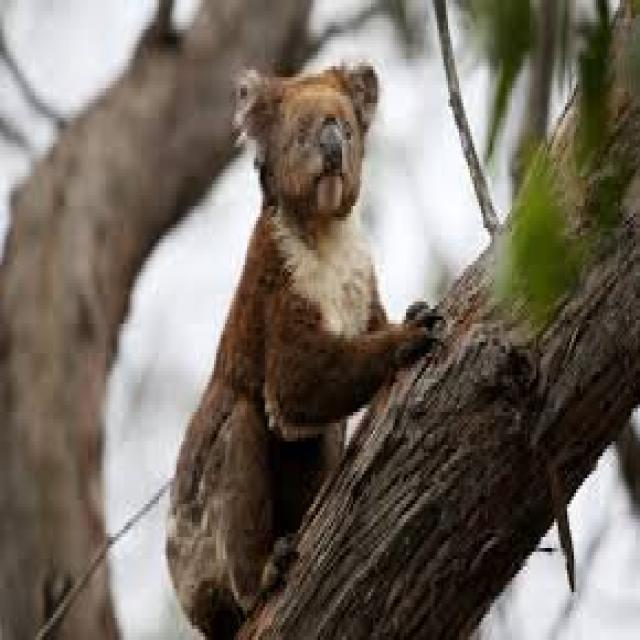Koala: (154, 57, 447, 639)
